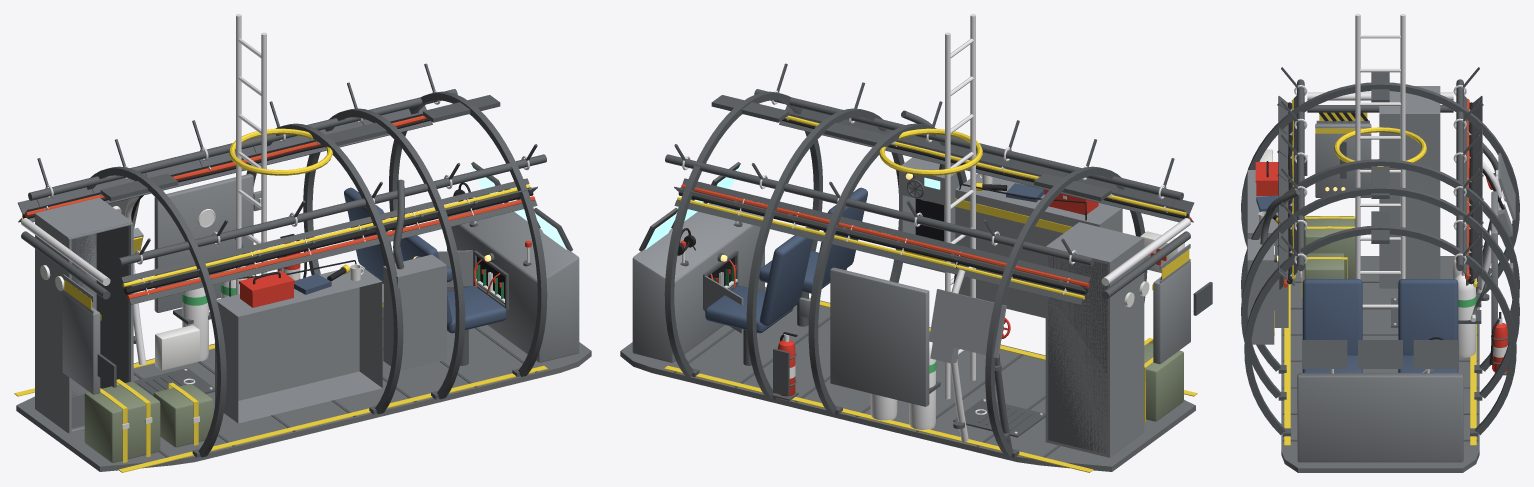
File: SM_Sub_Interior.fbx
3 renders of one model, left to right at view 1: azimuth 30°, elevation 25°; view 2: azimuth 150°, elevation 25°; view 3: azimuth 270°, elevation 25°, orthographic. The views are drawn at different scales.
Parts seen in each view (by area): view 1: SM_Sub_Interior; view 2: SM_Sub_Interior; view 3: SM_Sub_Interior.
Boxes of the visible parts, <box> form: SM_Sub_Interior: <box>14,14,591,472</box>; SM_Sub_Interior: <box>620,14,1212,472</box>; SM_Sub_Interior: <box>1241,14,1519,472</box>.
Bounding box in the file's own units: 3.79 × 2.74 × 2.1.
